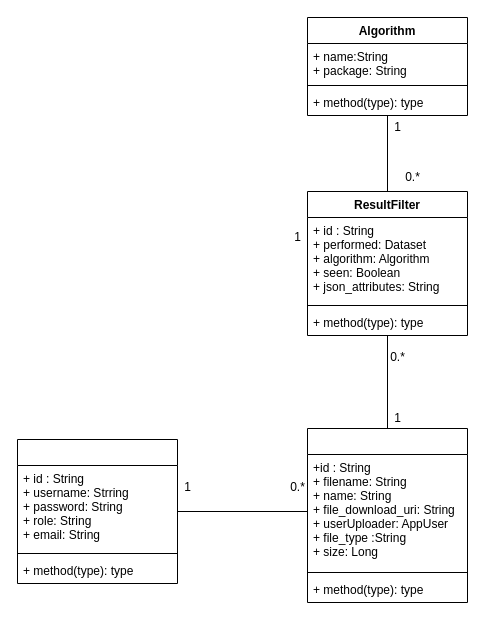
The diagram is 485 pixels wide and 623 high, and some of its shapes have lost their labels. Here are the shapes that lost their labels. From the top down, the box of each, then its label:
(16, 438, 178, 584): AppUser
(306, 428, 468, 602): Dataset
